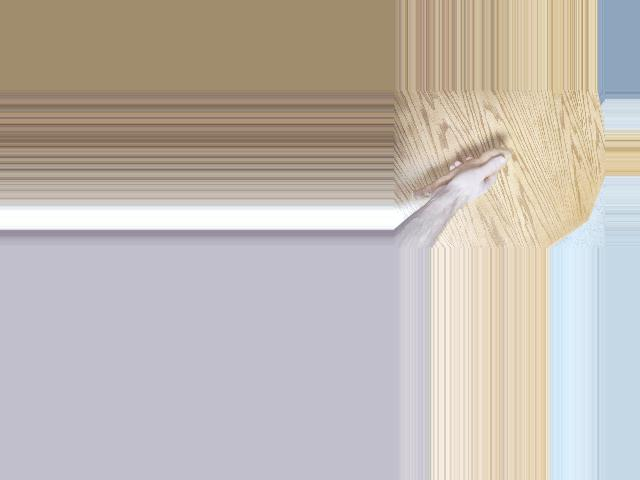sweet_potato: (406, 144, 512, 203)
